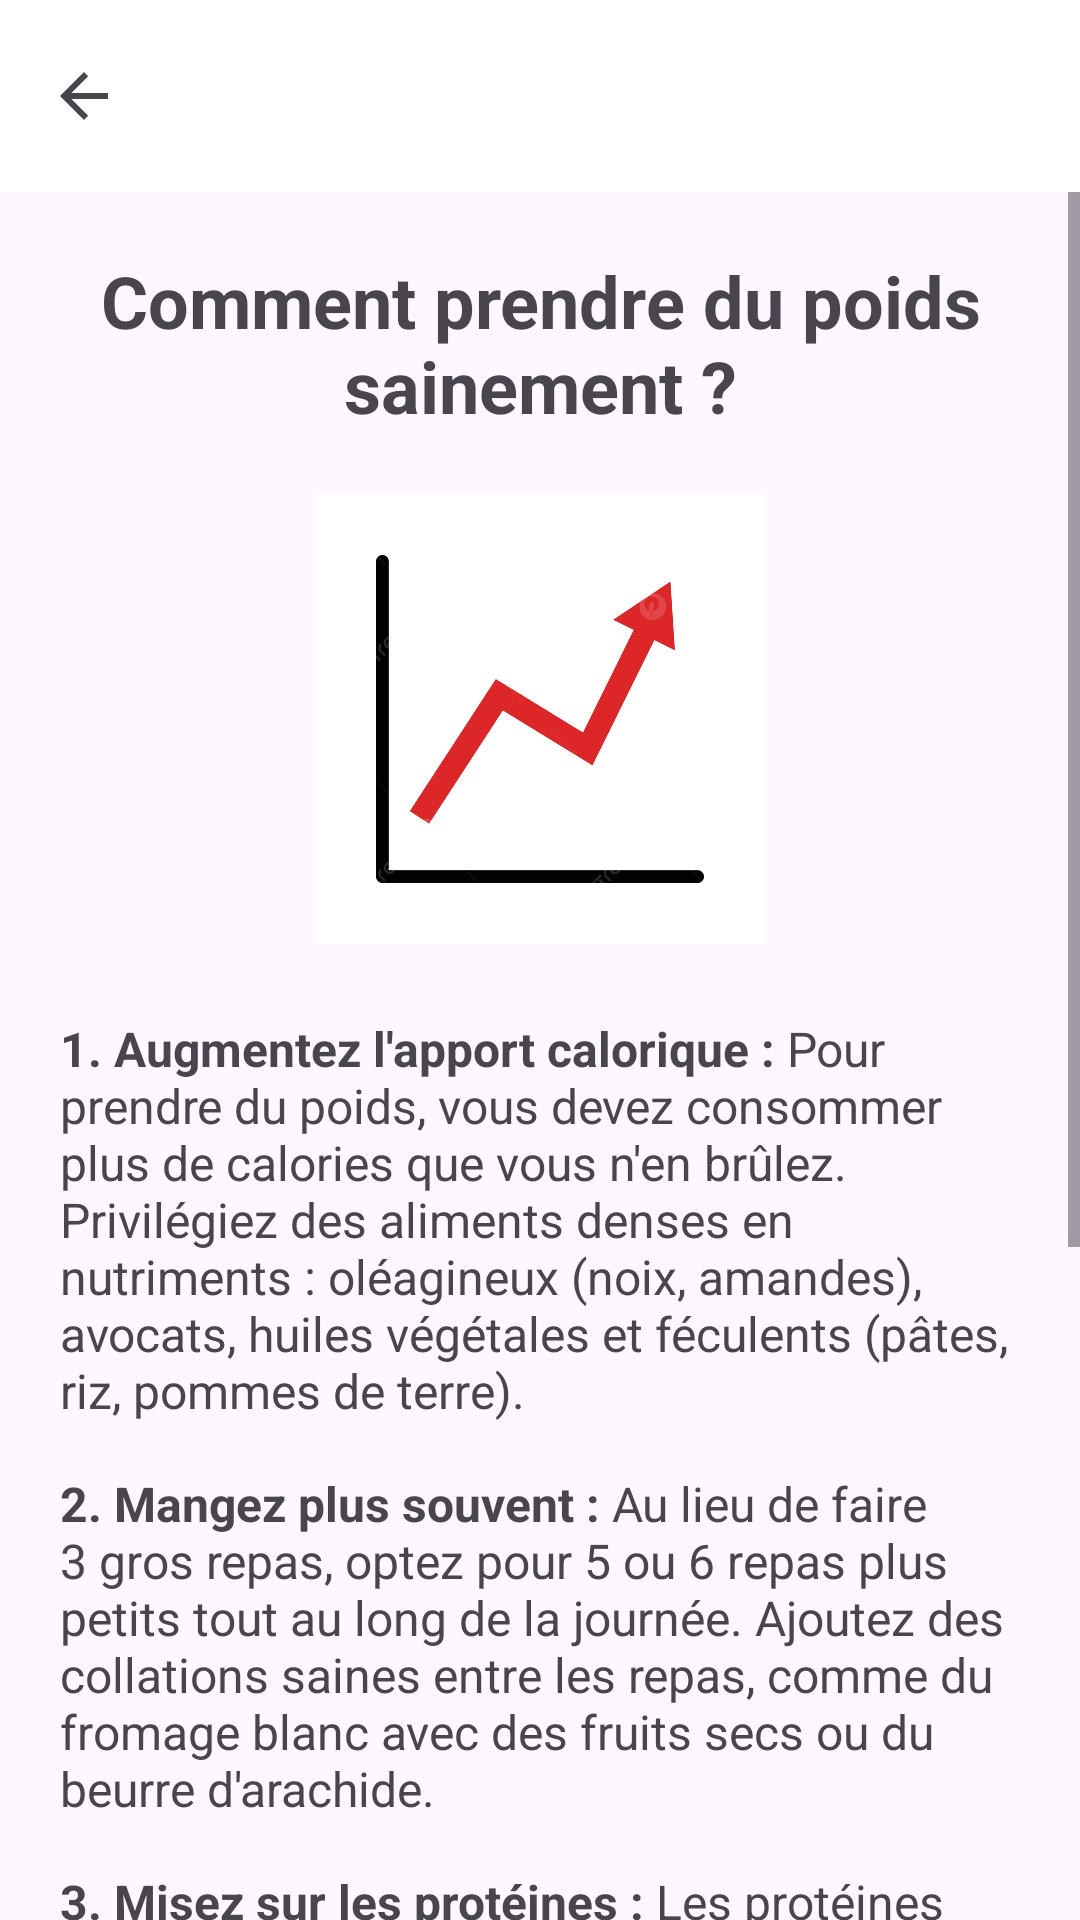

Where to tap for icons on this 1080px×1920px app screen, as point (x, y):
mont courbe: point (540, 719)
